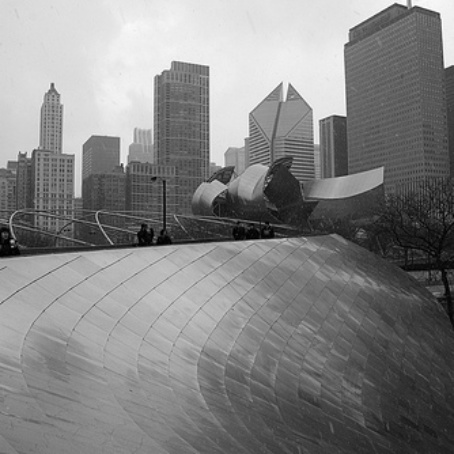building: (342, 5, 447, 215), (155, 62, 209, 215), (249, 81, 316, 199), (32, 86, 75, 238), (88, 141, 125, 229), (129, 162, 176, 230), (316, 115, 347, 187), (1, 154, 29, 221), (131, 130, 153, 163)
sky: (11, 1, 450, 140)
tree: (382, 196, 454, 299)
